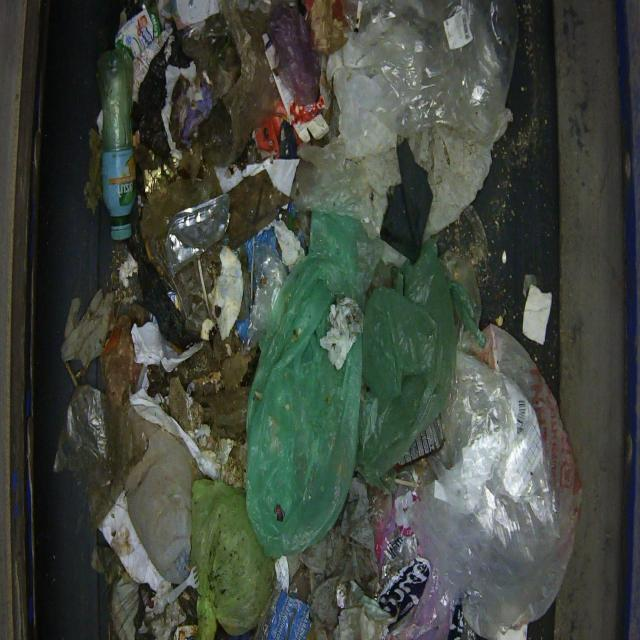cups: (95, 46, 137, 241)
other-trash: (52, 0, 580, 638)
